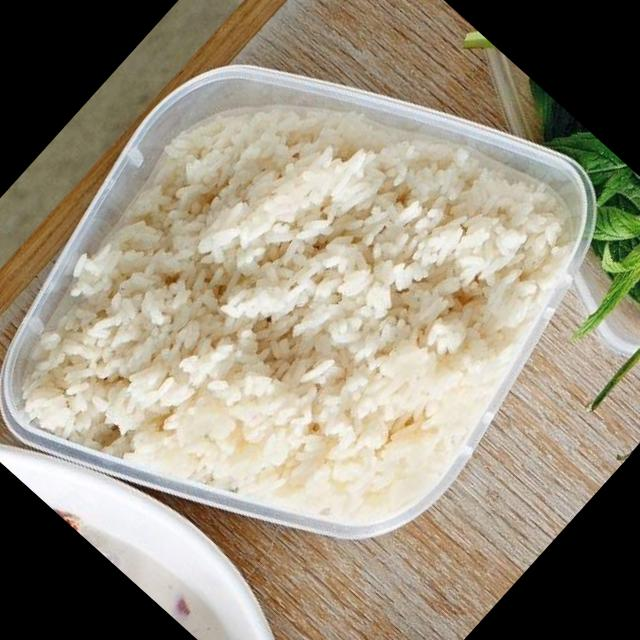rice: (14, 101, 568, 520)
